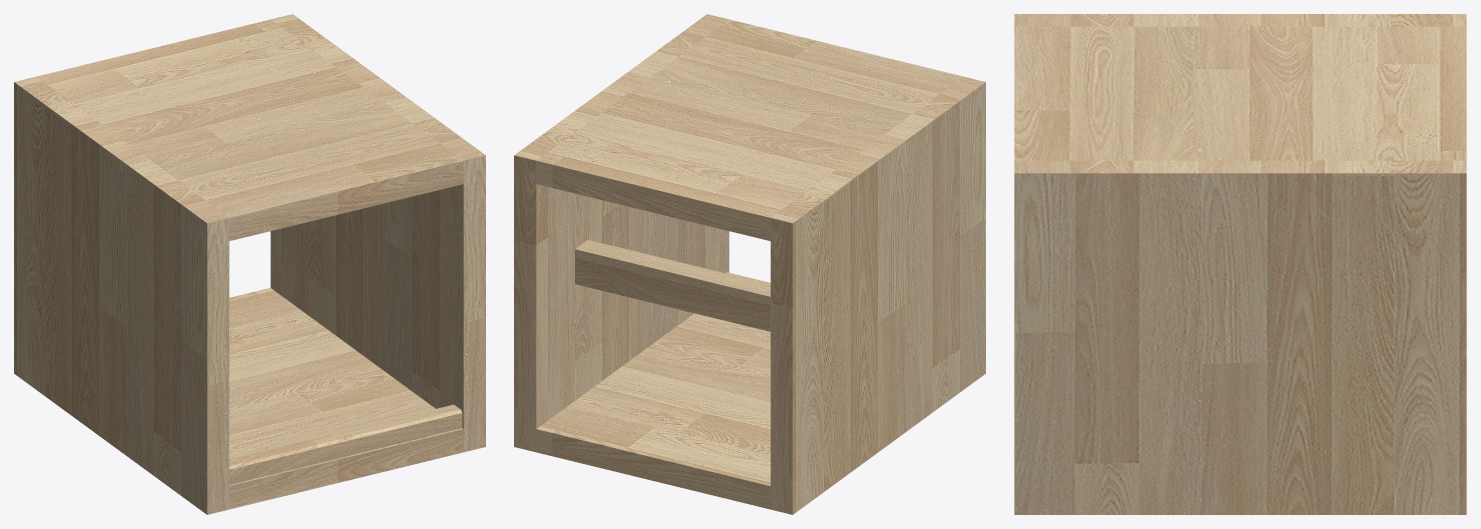
3 renders of one model, left to right at view 1: azimuth 30°, elevation 25°; view 2: azimuth 150°, elevation 25°; view 3: azimuth 270°, elevation 25°, orthographic. The views are drawn at different scales.
Parts seen in each view (by area): view 1: Lamel.168; view 2: Lamel.168; view 3: Lamel.168.
Boxes of the visible parts, x1,y1,x2,y2 form: Lamel.168: [14, 14, 485, 514]; Lamel.168: [514, 14, 985, 514]; Lamel.168: [1014, 14, 1466, 514].
Size of the model in its own units: 0.25 by 0.25 by 0.3.
1 material, 1 textured.
